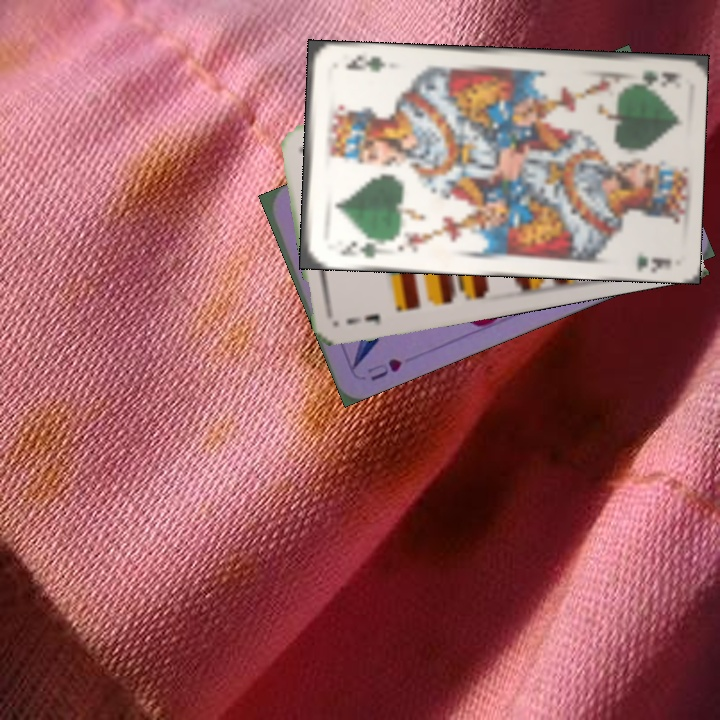E7: (343, 310, 383, 328)
GK: (336, 235, 384, 262), (624, 67, 681, 87)
HU: (363, 354, 405, 384)
